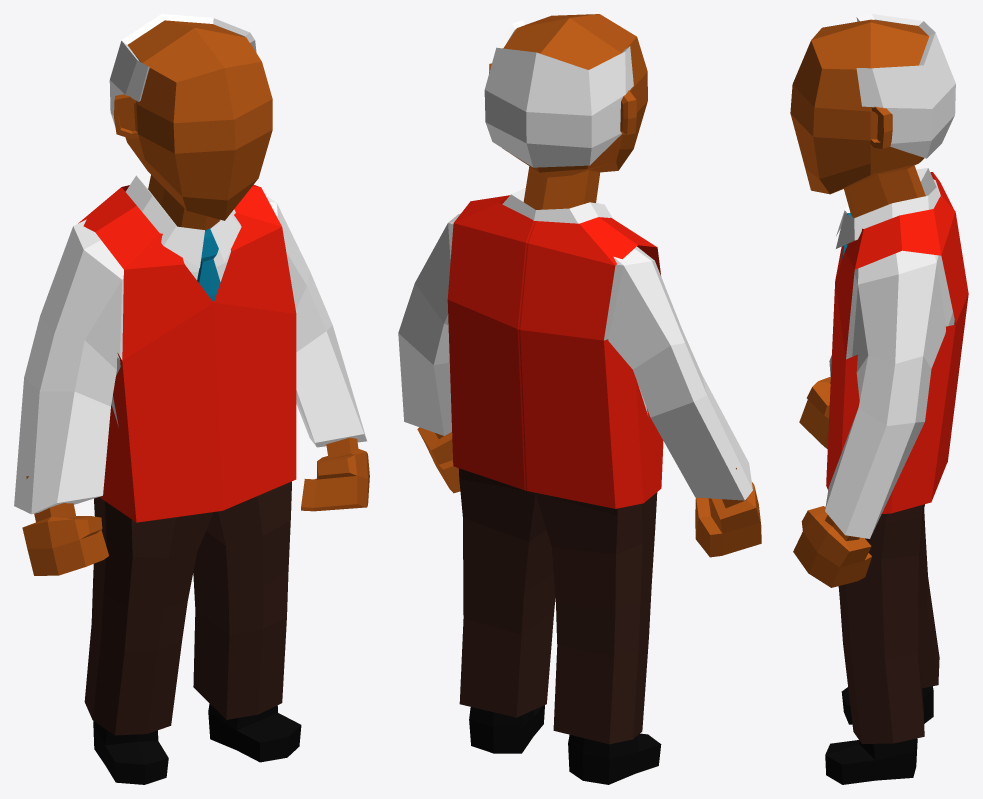
File: skeletonedTeacherTest01.obj
3 renders of one model, left to right at view 1: azimuth 30°, elevation 25°; view 2: azimuth 150°, elevation 25°; view 3: azimuth 270°, elevation 25°, orthographic.
Visible parts, largest first — view 1: Teacher_01; view 2: Teacher_01; view 3: Teacher_01.
Part boxes in pixels (x1=…): Teacher_01: x1=14, y1=14, x2=369, y2=784; Teacher_01: x1=398, y1=14, x2=761, y2=784; Teacher_01: x1=790, y1=14, x2=968, y2=784.
Bounding box in the file's own units: 6.38 × 12.94 × 2.9.
